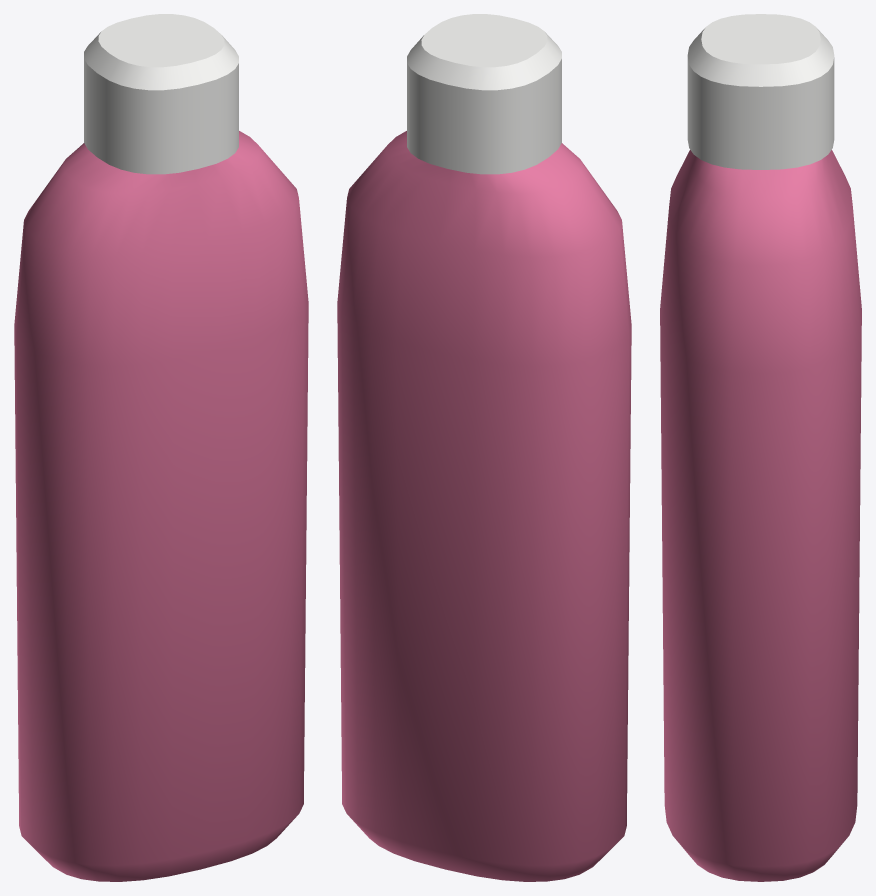
Rendered from condicionador_350ml.dae.
3 views of the same model, side by side, from view 1: azimuth 30°, elevation 25°; view 2: azimuth 150°, elevation 25°; view 3: azimuth 270°, elevation 25° (orthographic).
Parts seen in each view (by area): view 1: Condicionador 350ml (×2); view 2: Condicionador 350ml (×2); view 3: Condicionador 350ml (×2).
Boxes of the visible parts, x1,y1,x2,y2 form: Condicionador 350ml (×2): [14, 14, 308, 881]; Condicionador 350ml (×2): [337, 14, 631, 881]; Condicionador 350ml (×2): [660, 14, 861, 881].
Size of the model in its own units: 66 by 44 by 190.
